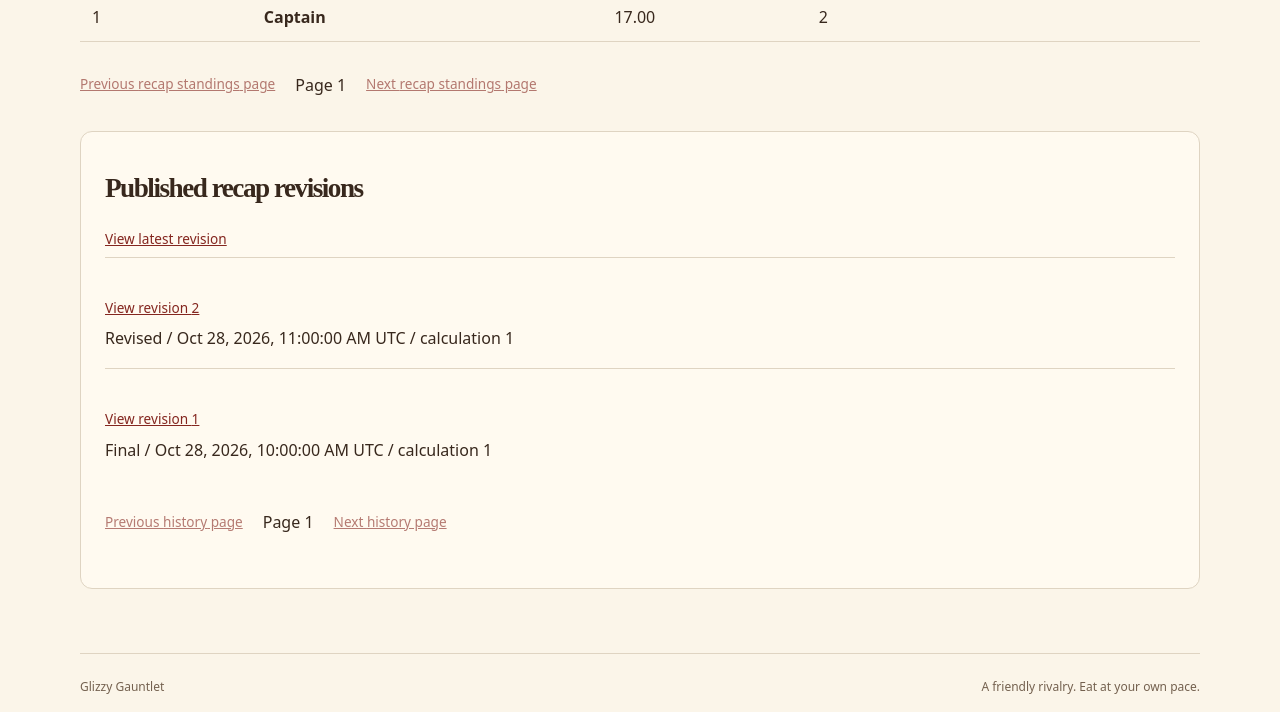
Test: versioned recaps and score corrections › lets public visitors browse immutable revisions without requesting member highlights or audit
(page scrolled)
Click the button "View revision 1" at (152, 420), box [105,401,199,438]
(page scrolled)
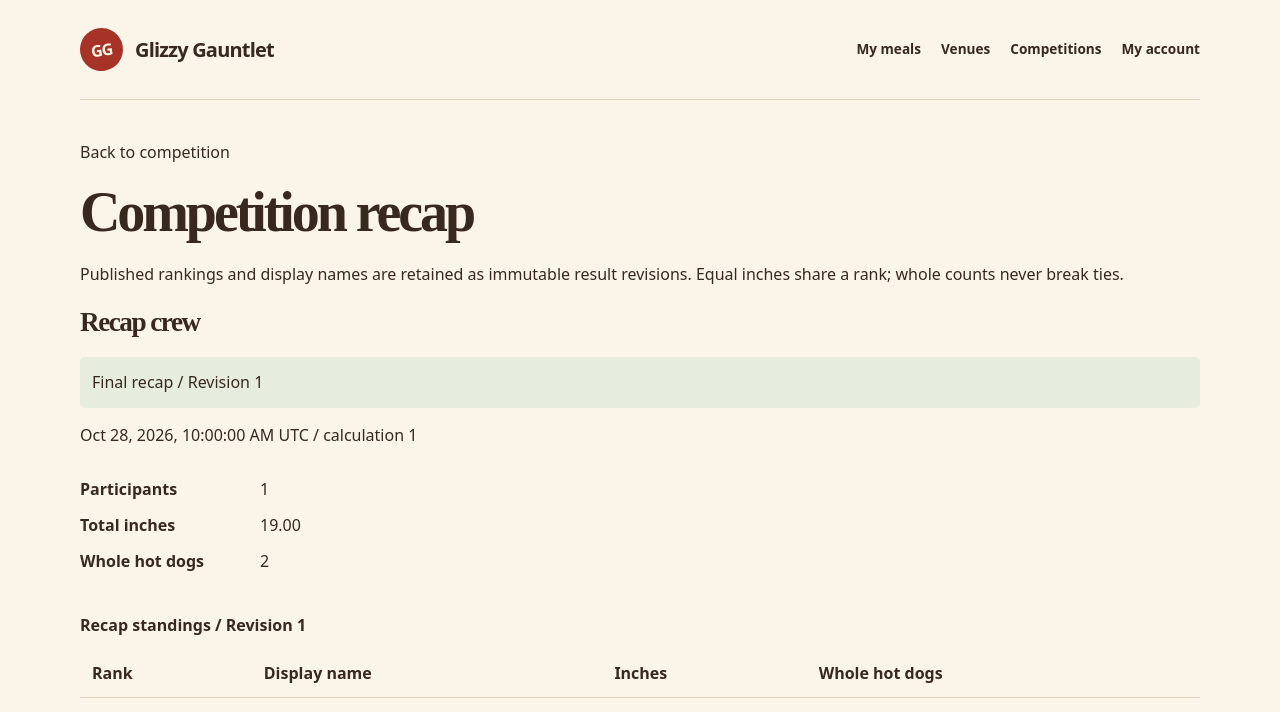
Result: the text "Final recap / Revision 1" is shown at [80,357,1200,408]
Result: the text "19.00" is shown at [260,514,301,536]
